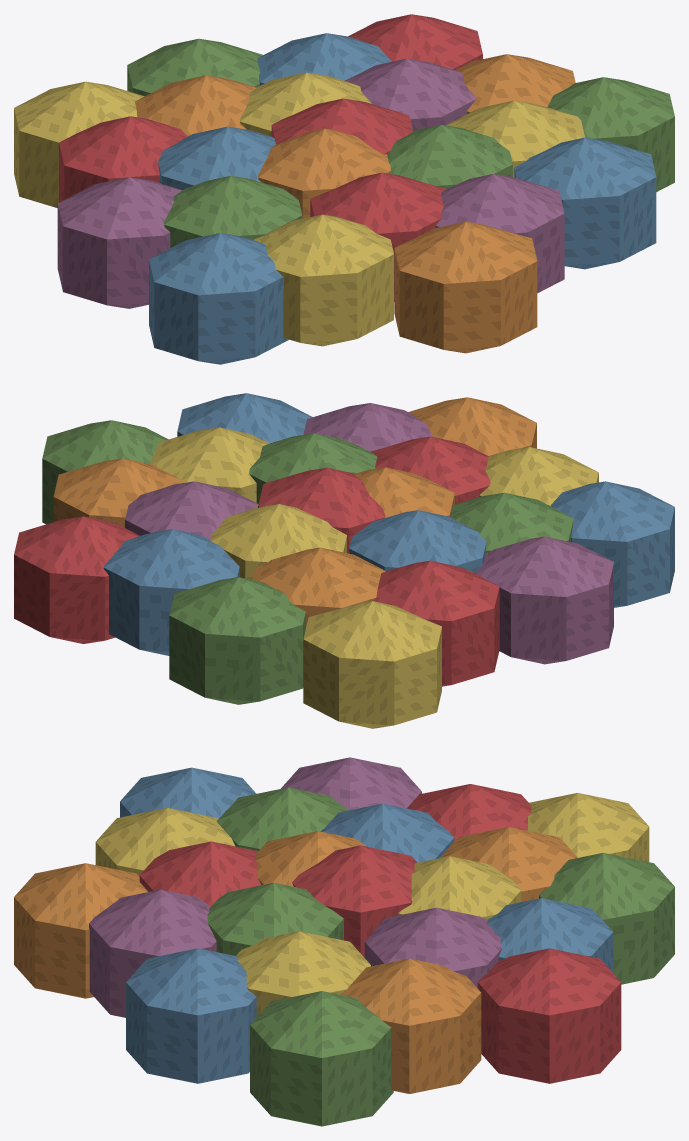
Rendered from clown_wig.glb.
The picture shows the model from 3 angles, top to bottom: view 1: azimuth 30°, elevation 25°; view 2: azimuth 150°, elevation 25°; view 3: azimuth 270°, elevation 25°; orthographic projection. The views are drawn at different scales.
Visible parts, largest first — view 1: block_curled wig lock (×23); view 2: block_curled wig lock (×23); view 3: block_curled wig lock (×23).
Part boxes in pixels (x1,y1,x2,y2): block_curled wig lock (×23): (14,14,674,364); block_curled wig lock (×23): (14,393,674,728); block_curled wig lock (×23): (14,757,674,1126).
Bounding box in the file's own units: 0.257 × 0.0647 × 0.2412.
Materials: 1 (1 with a texture image).
